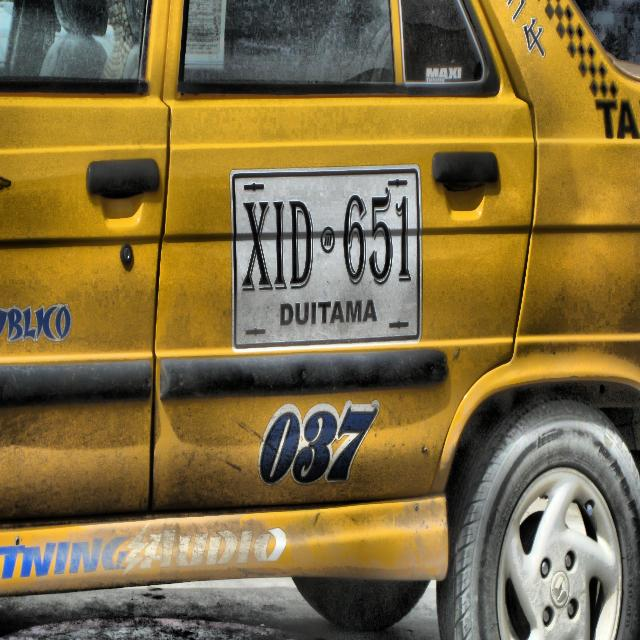plate: (229, 164, 422, 353)
